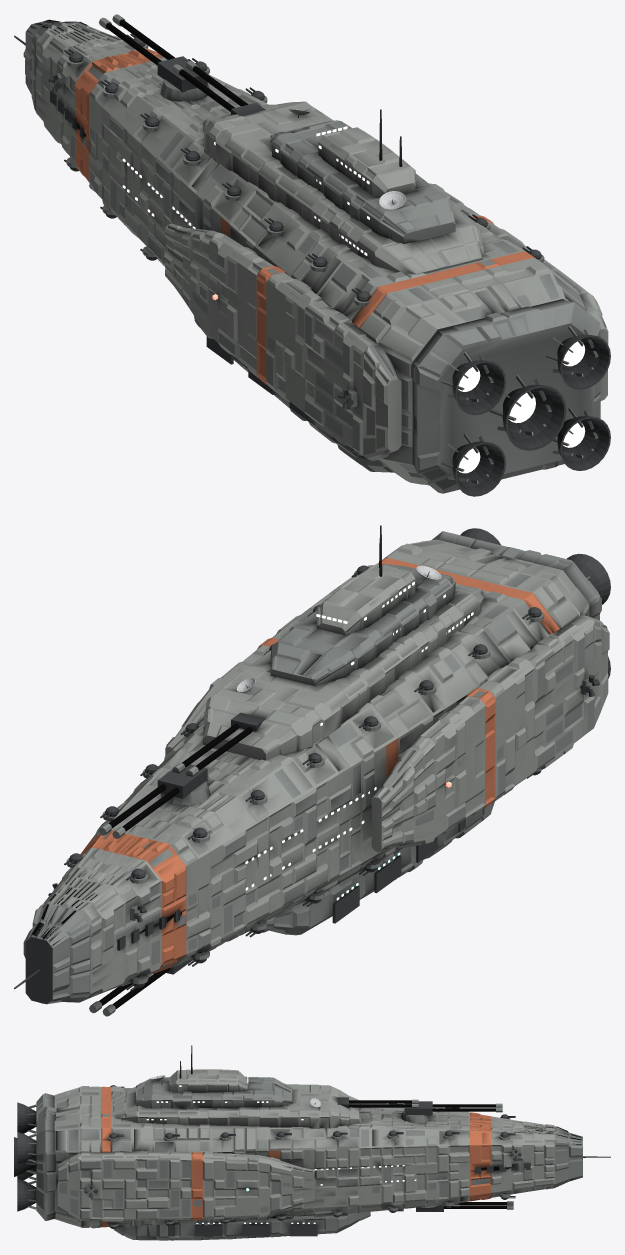
File: battleship.glb
3 views of the same model, one above another, from view 1: azimuth 30°, elevation 25°; view 2: azimuth 150°, elevation 25°; view 3: azimuth 270°, elevation 25° (orthographic). The views are drawn at different scales.
Visible parts, largest first — view 1: body; view 2: body; view 3: body.
Boxes of the visible parts, bbox=[...] form: body: bbox=[14, 14, 610, 496]; body: bbox=[14, 525, 610, 1016]; body: bbox=[14, 1045, 610, 1240].
Size of the model in its own units: 0.2988 by 0.3573 by 1.07.
